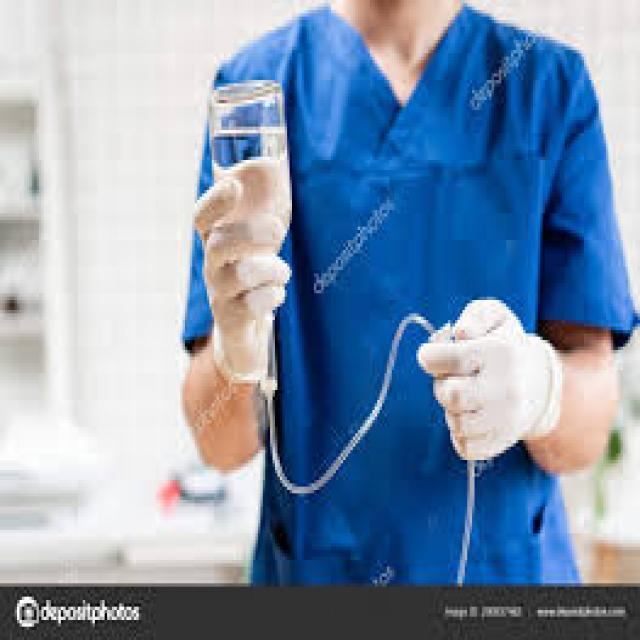iv_fluids: (203, 103, 359, 512)
